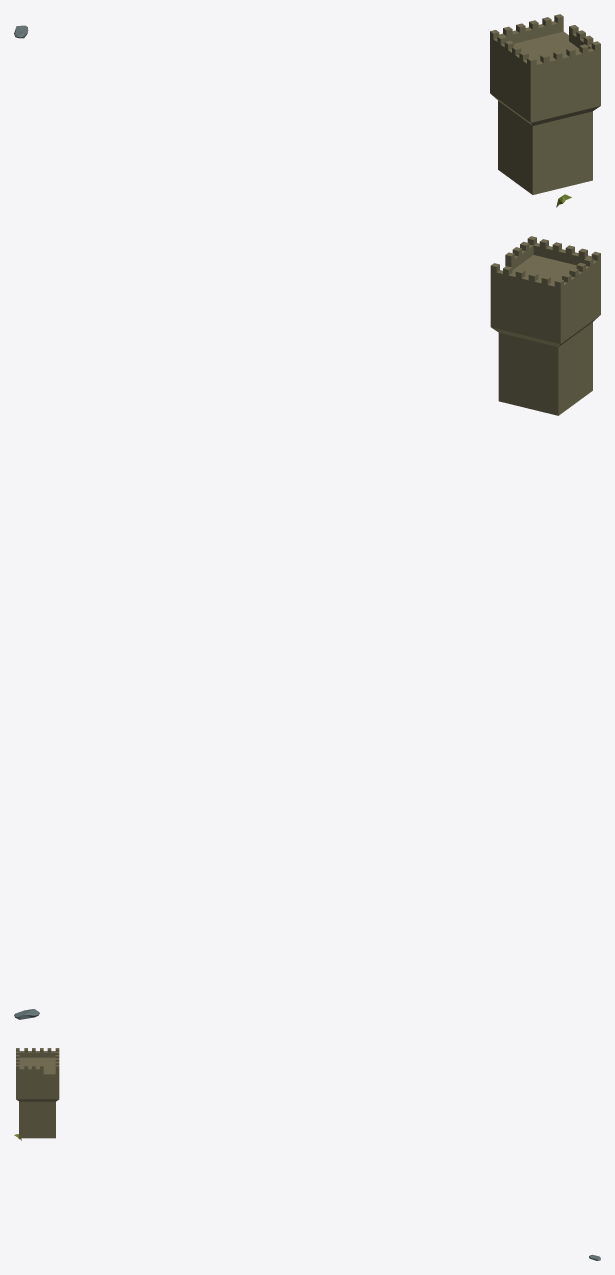
The picture shows the model from 3 angles, top to bottom: view 1: azimuth 30°, elevation 25°; view 2: azimuth 150°, elevation 25°; view 3: azimuth 270°, elevation 25°; orthographic projection. The views are drawn at different scales.
Visible parts, largest first — view 1: Box15797_rock2_0, Object272_rock2_0, Object273_rock2_0; view 2: Box15797_rock2_0, Object272_rock2_0, Object273_rock2_0; view 3: Box15797_rock2_0, Object273_rock2_0, Object272_rock2_0.
Part boxes in pixels (x1=…): Box15797_rock2_0: x1=490, y1=49, x2=600, y2=194; Object272_rock2_0: x1=490, y1=21, x2=600, y2=75; Object273_rock2_0: x1=490, y1=31, x2=600, y2=78; Box15797_rock2_0: x1=490, y1=271, x2=600, y2=415; Object272_rock2_0: x1=490, y1=243, x2=600, y2=297; Object273_rock2_0: x1=490, y1=255, x2=600, y2=300; Box15797_rock2_0: x1=16, y1=1076, x2=59, y2=1138; Object273_rock2_0: x1=16, y1=1057, x2=59, y2=1075; Object272_rock2_0: x1=16, y1=1051, x2=59, y2=1074.
Bounding box in the file's own units: 469 × 2416 × 6355.
